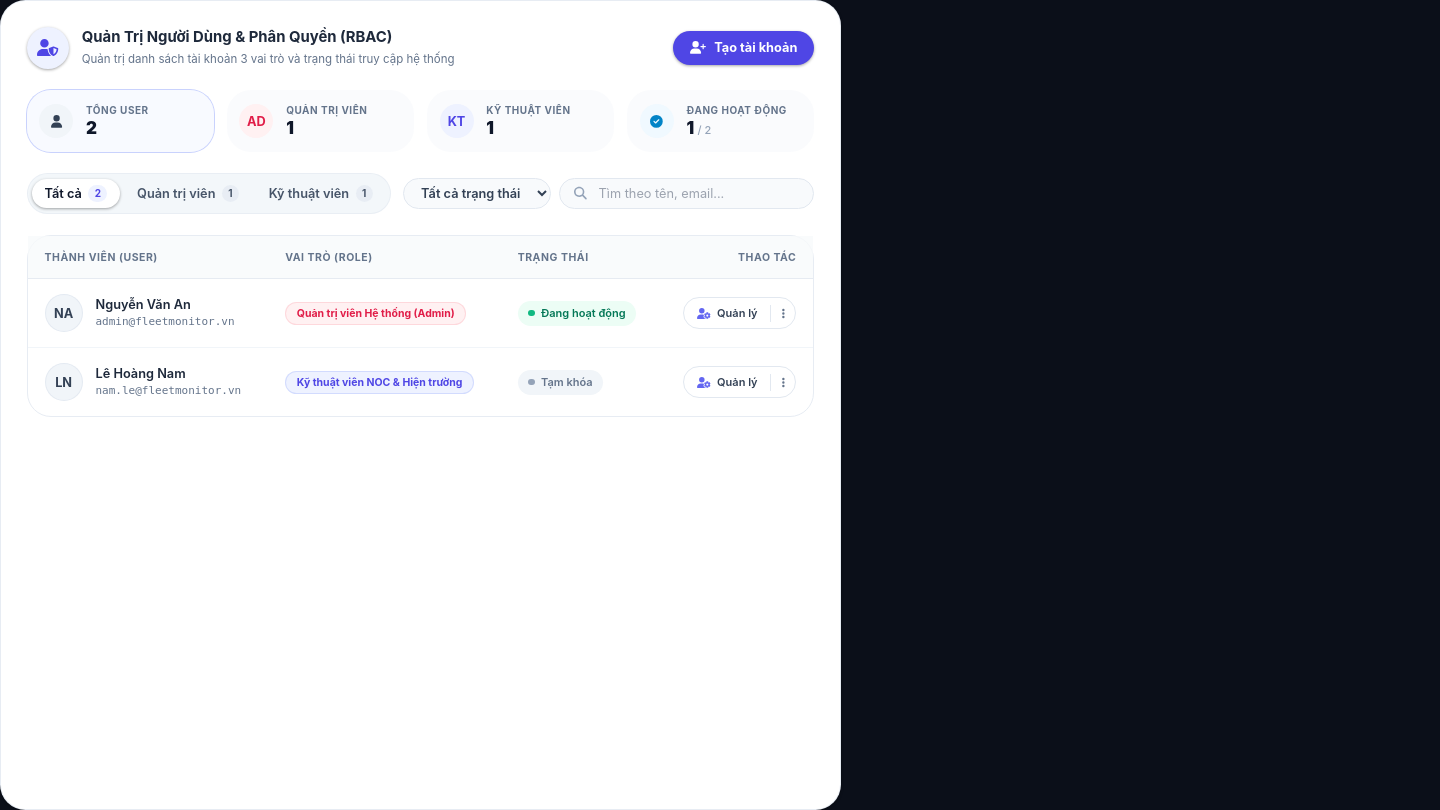
Test: UserRbacManagerCard — Simplified RBAC Layout, Split Actions & Modals › opens more-actions dropdown menu and jumps to Đổi mật khẩu tab
Click the button named "Thao tác khác cho Lê Hoàng Nam" at [783, 382], box [771, 367, 795, 397]
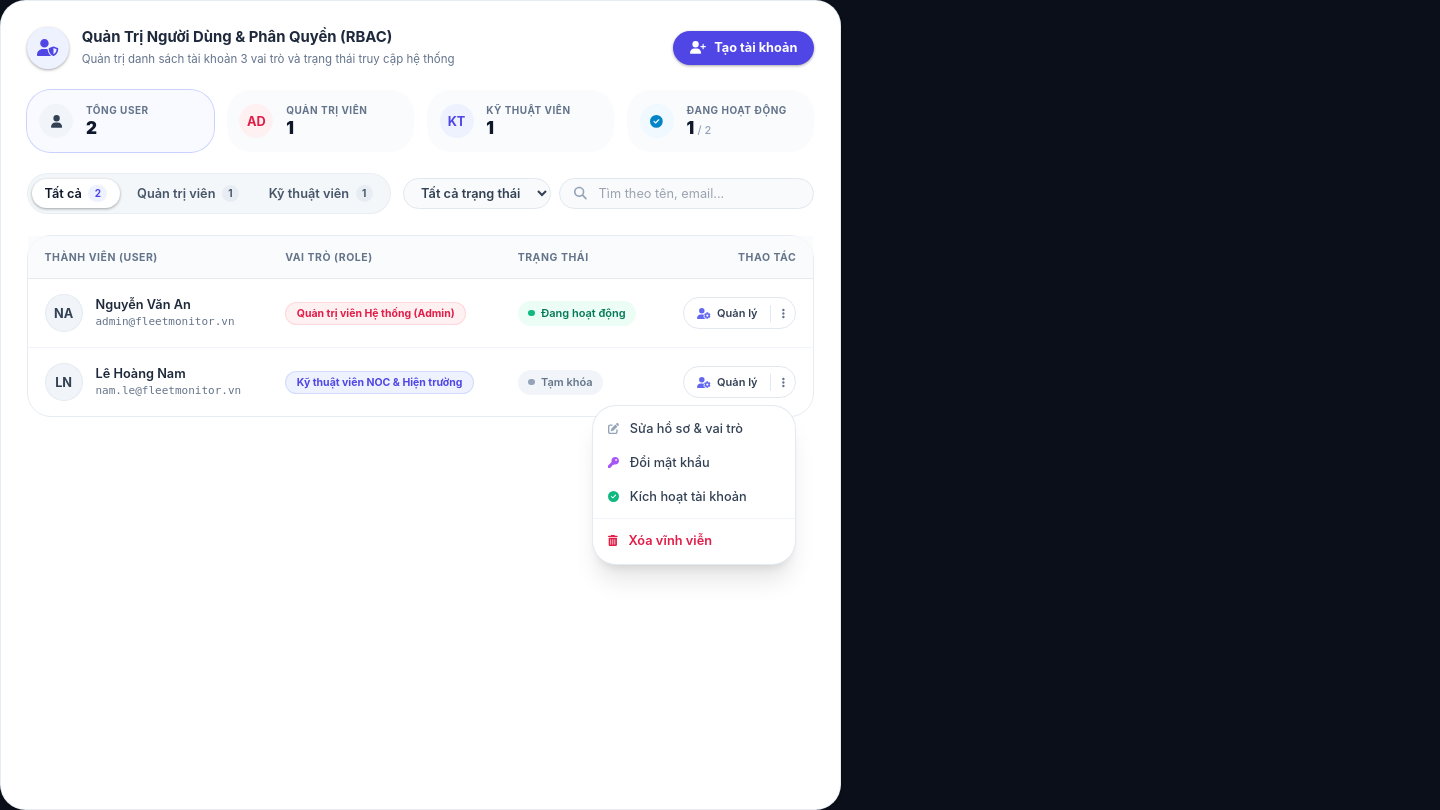
Click the menu item "Đổi mật khẩu" at [694, 463], box [593, 446, 795, 480]
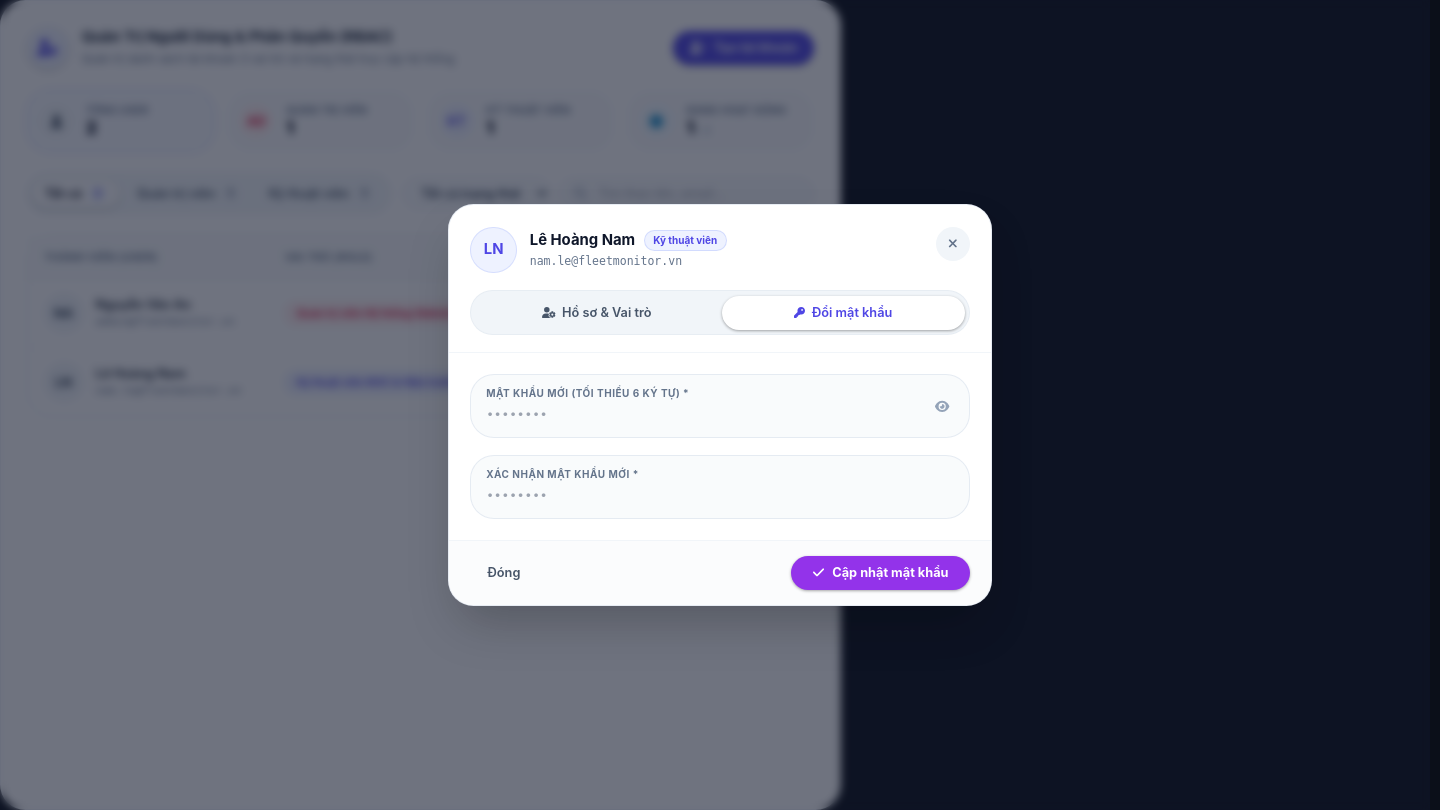
Now the text "Mật khẩu mới (Tối thiểu 6 ký tự) *" is shown, box [486, 387, 689, 399]
